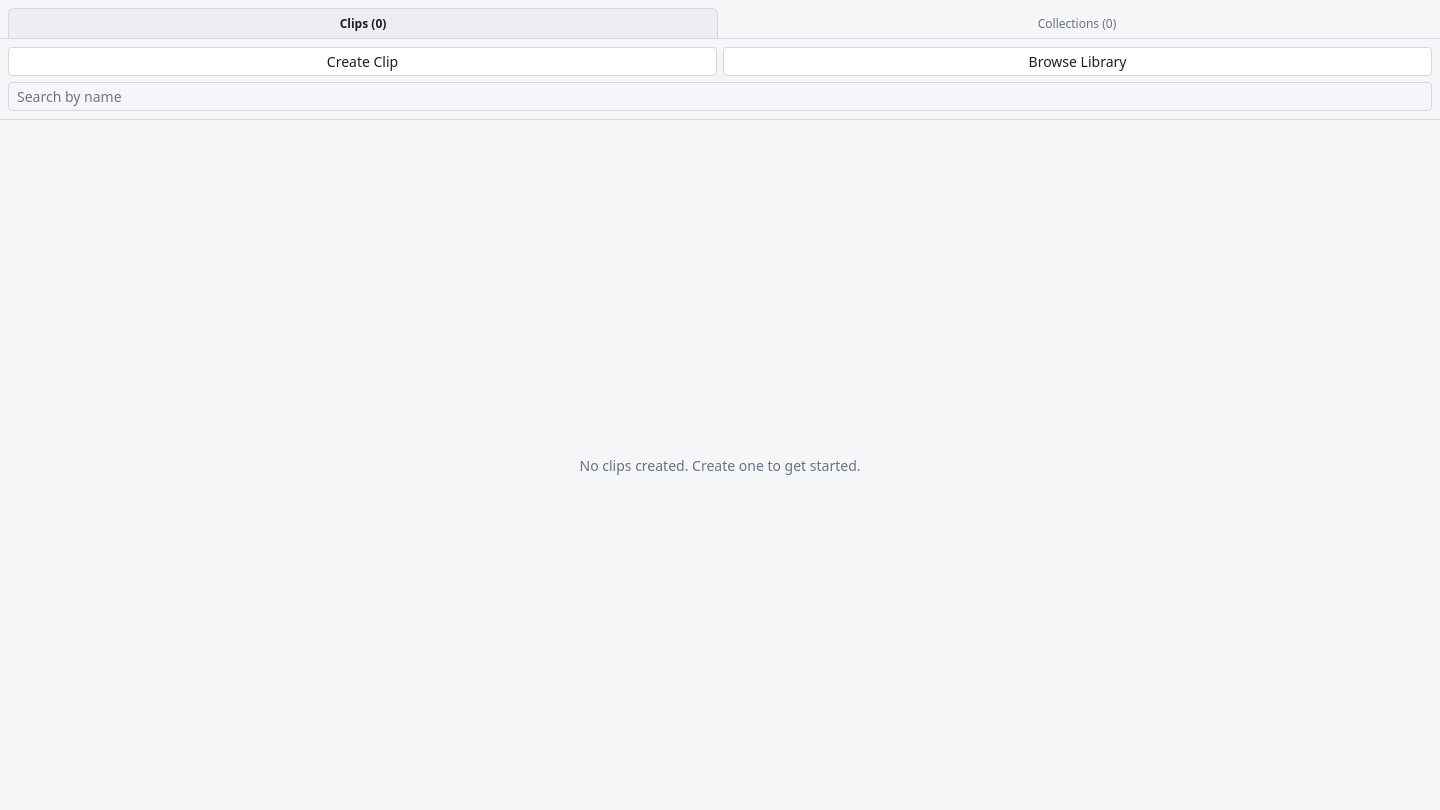
LibraryBrowser › Library content › shows loading state while fetching clips
The width and height of the screenshot is (1440, 810).
Click the button with test id "clips-browse-button" at (1078, 62), box [723, 47, 1432, 76]
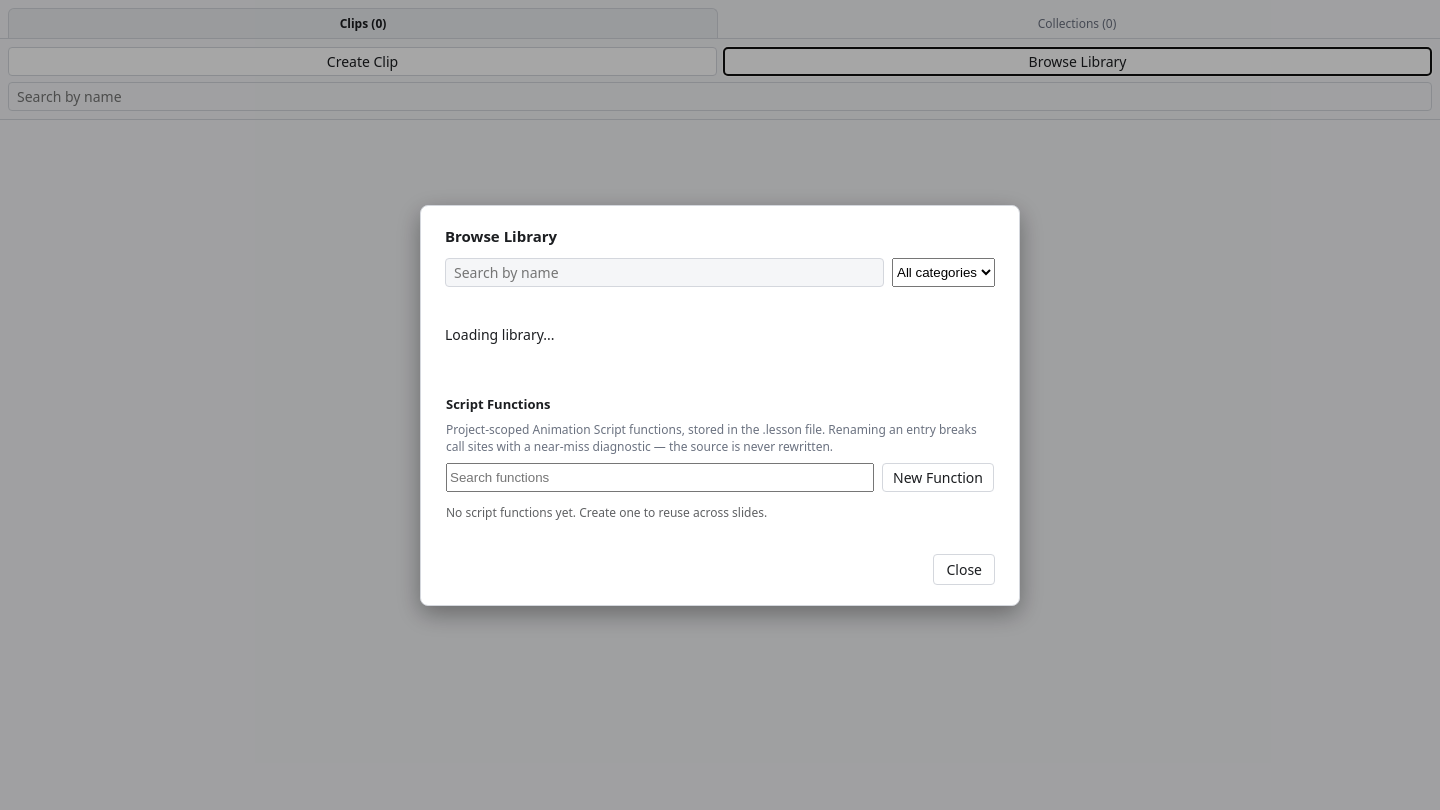
Expected: the text "Loading library..." is shown, [445, 324, 555, 344]
